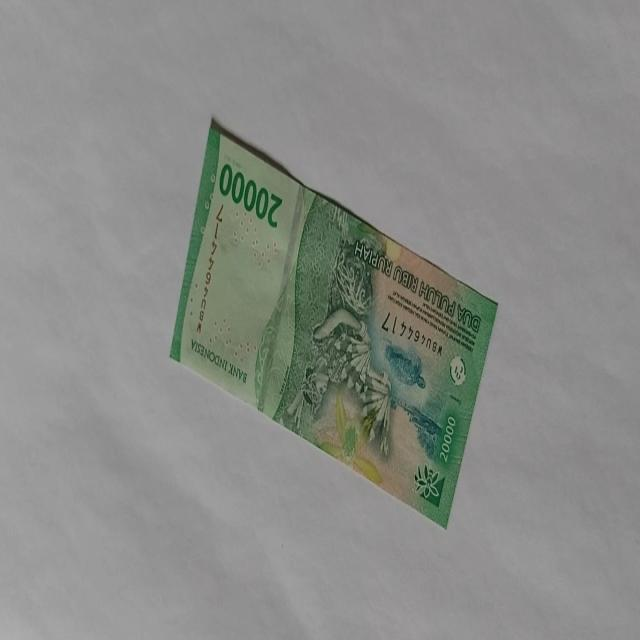dua puluh ribu rupiah: (169, 116, 499, 530)
